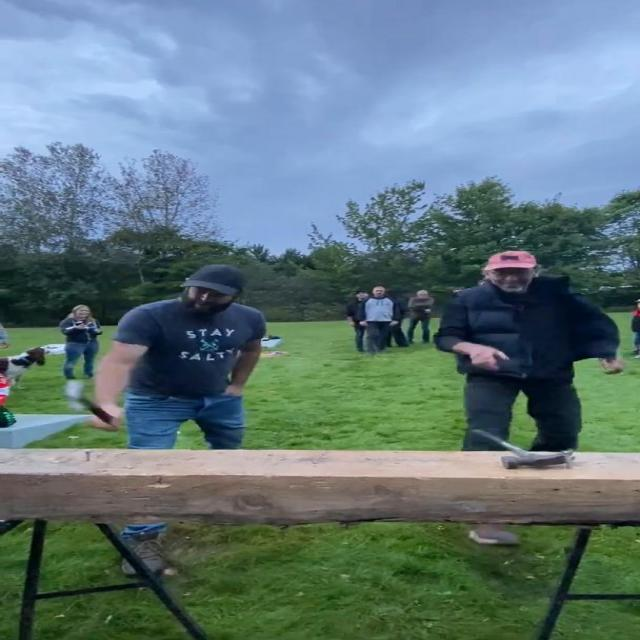hammer: (471, 430, 576, 470)
